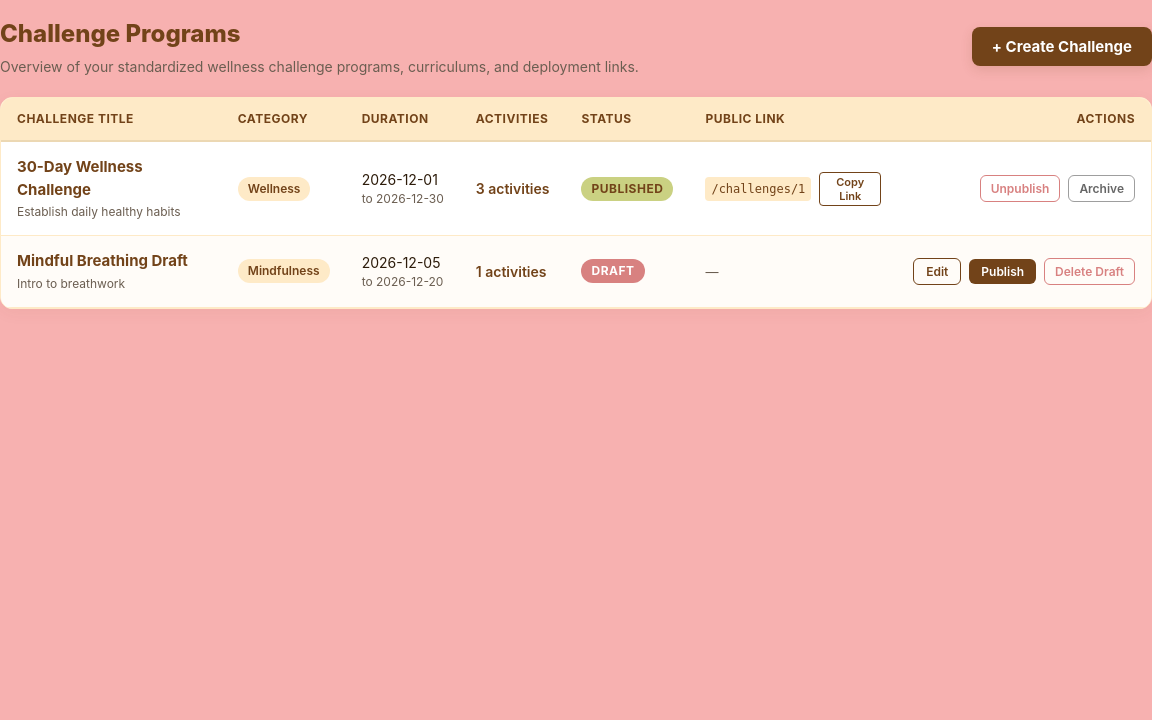
Program Builder Component (UI-07) › validates date range when end date is before start date
Expected: the heading "Challenge Programs" is shown, [0,19,240,48]
Note: Open modal
Step 1. Click the button "+ Create Challenge" → (1062, 46), box [972,27,1151,66]
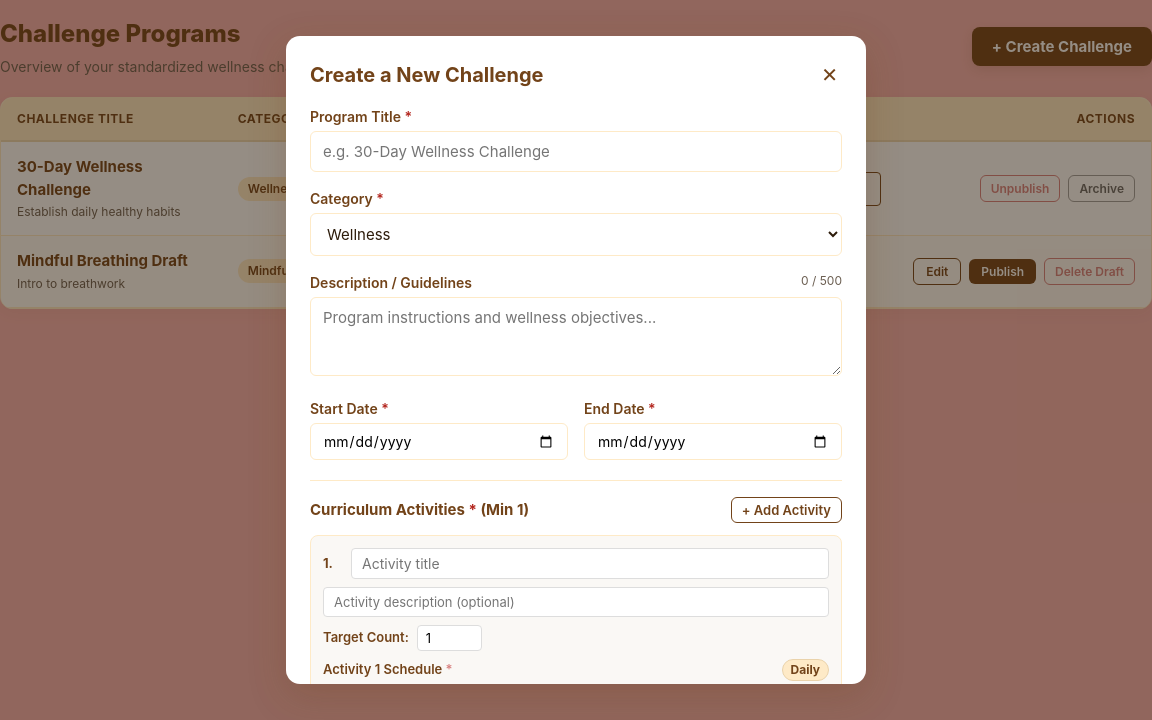
Step 2. Type "Fitness Sprint" into the field labelled "Program Title *" → (576, 152), box [310,131,842,172]
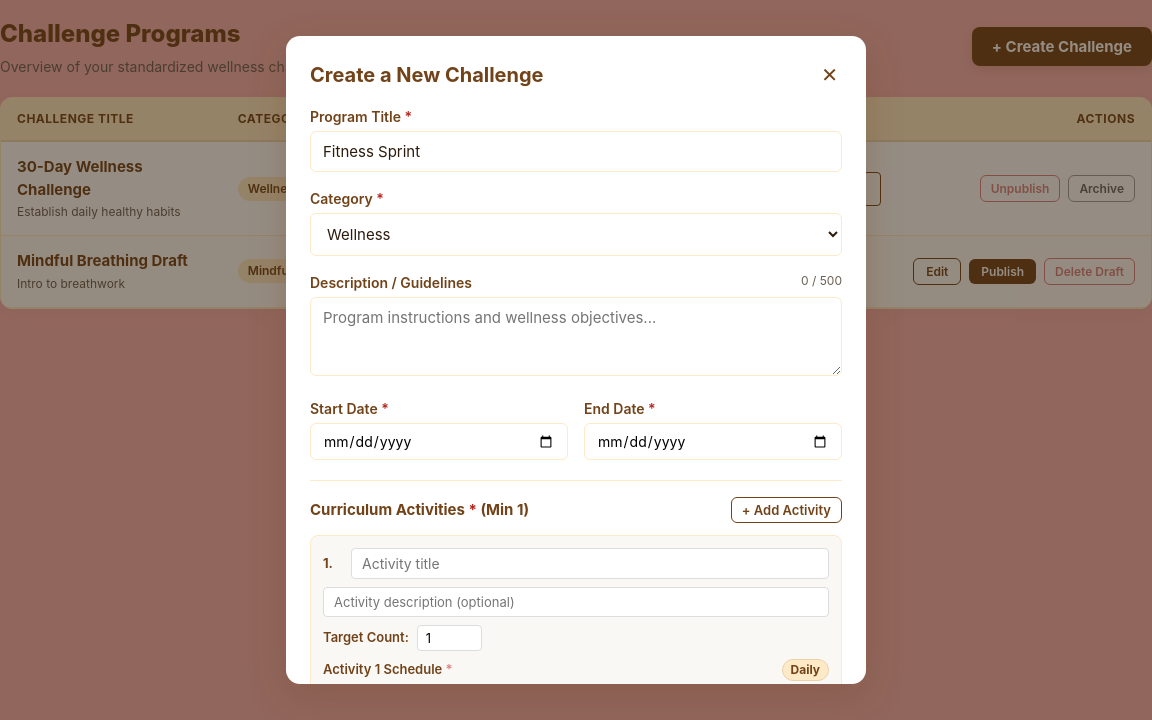
Step 3. Type "2026-12-15" into the date field labelled "Start Date *" → (439, 442), box [310,423,568,460]
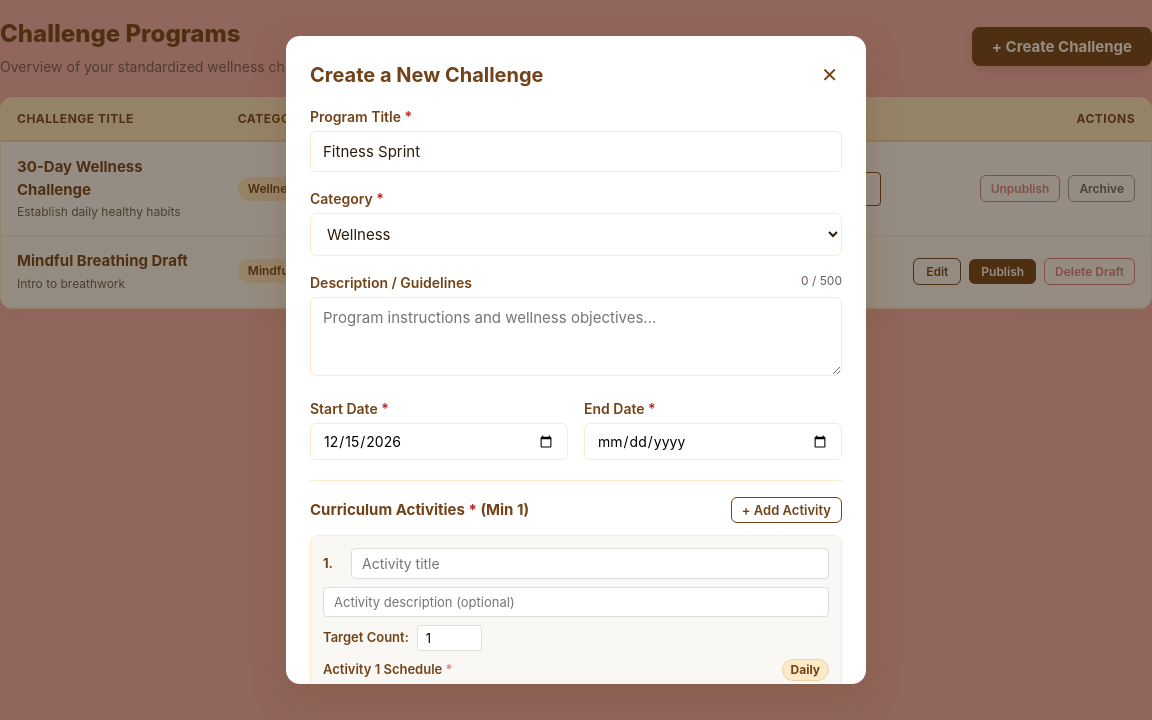
Step 4. Type "2026-12-10" into the date field labelled "End Date *" → (713, 442), box [584,423,842,460]
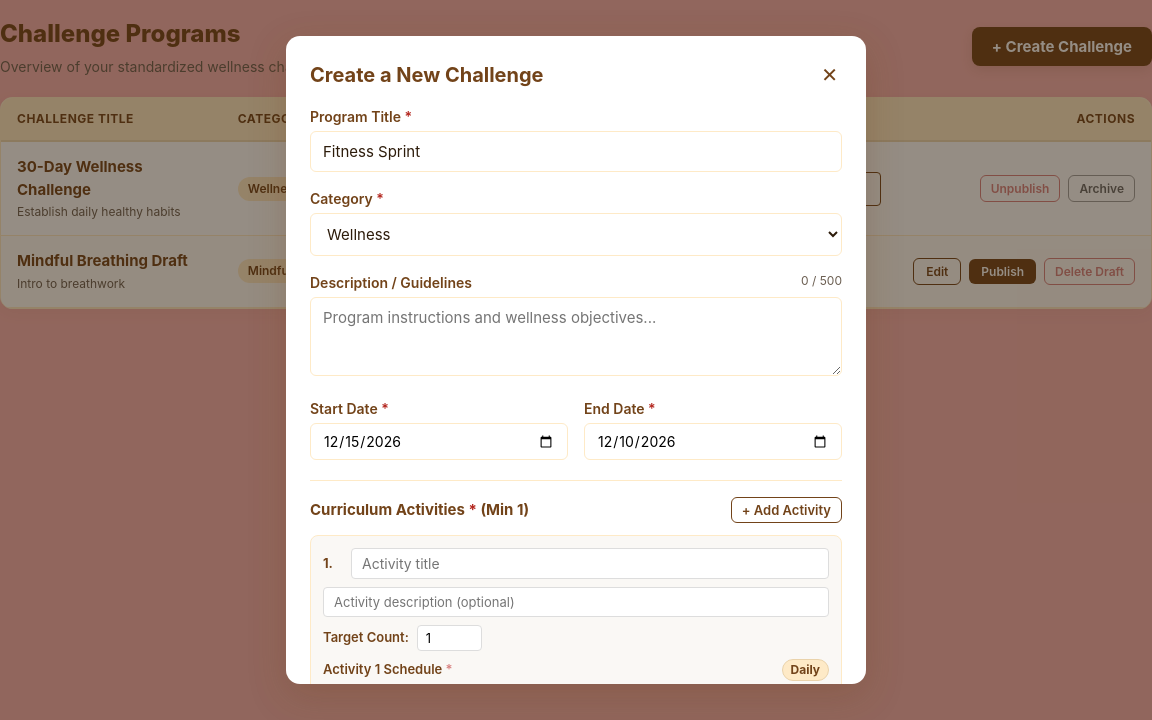
Step 5. Type "Running" into the field named "Activity 1 Title" → (590, 564), box [351,548,829,579]
(page scrolled)
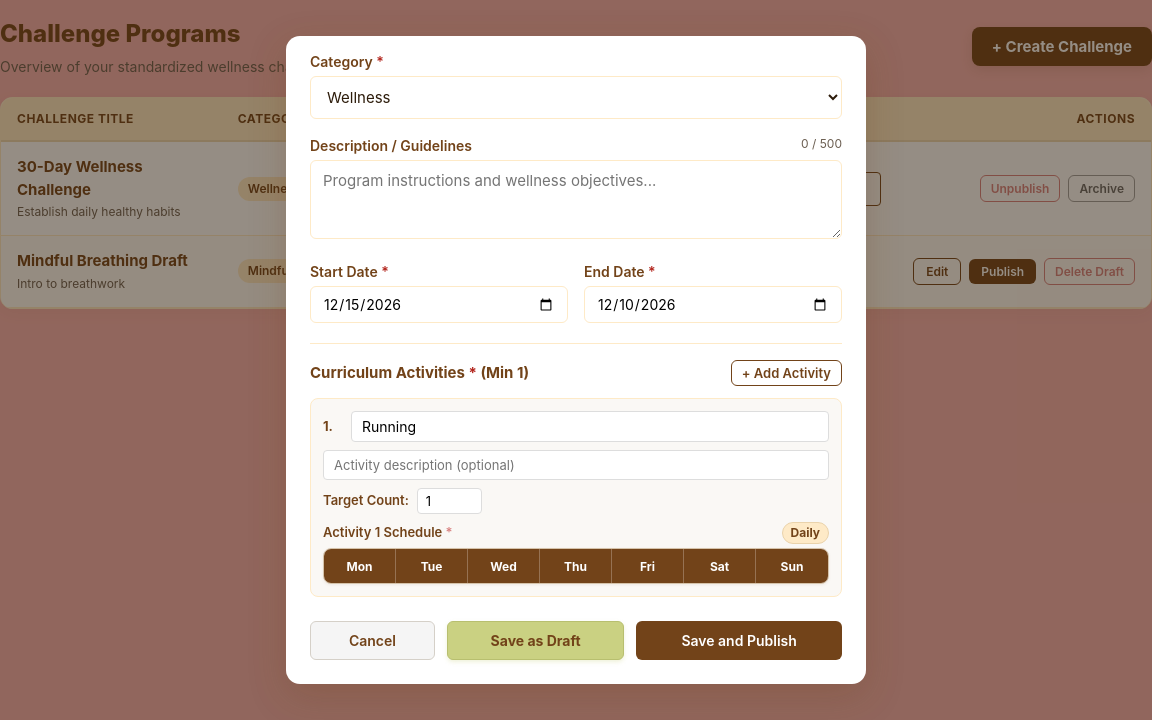
Step 6. Click the button "Save as Draft" → (536, 640), box [447,621,624,660]
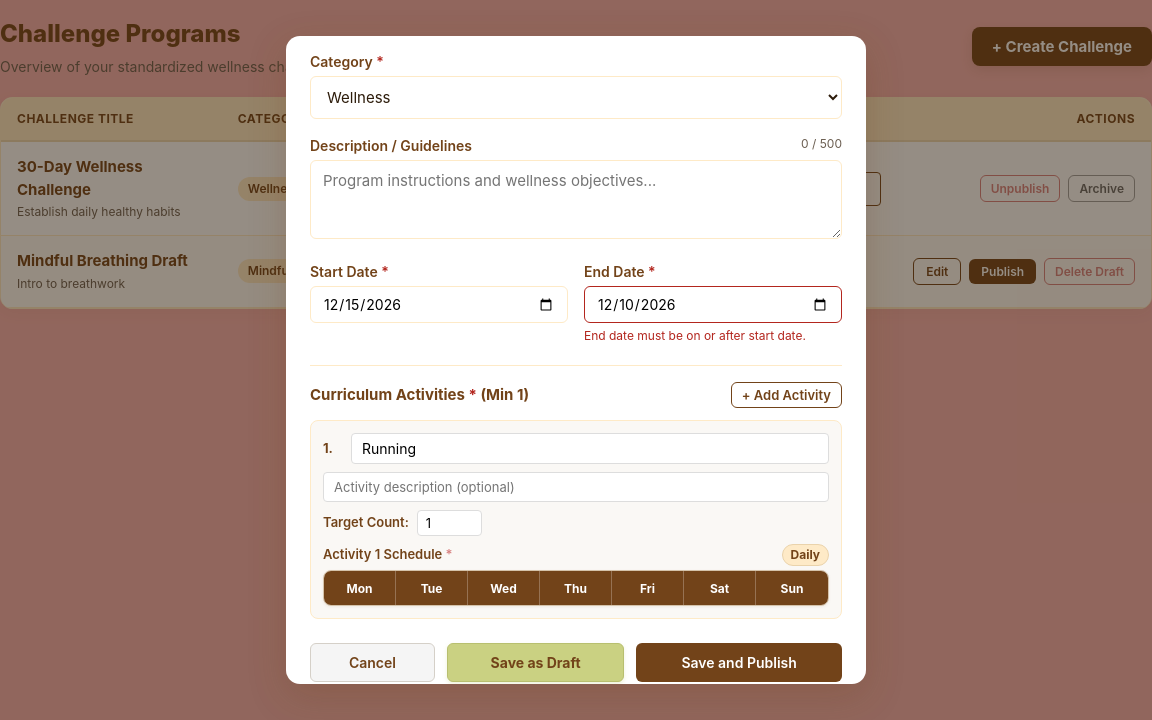
Expected: the text "End date must be on or after start date." is shown, [584,327,842,345]
